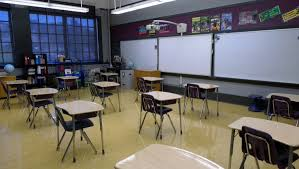desk: (228, 112, 298, 168), (52, 100, 106, 162), (137, 88, 183, 141), (179, 80, 219, 118), (88, 78, 123, 112), (21, 86, 58, 117), (265, 90, 298, 122)
